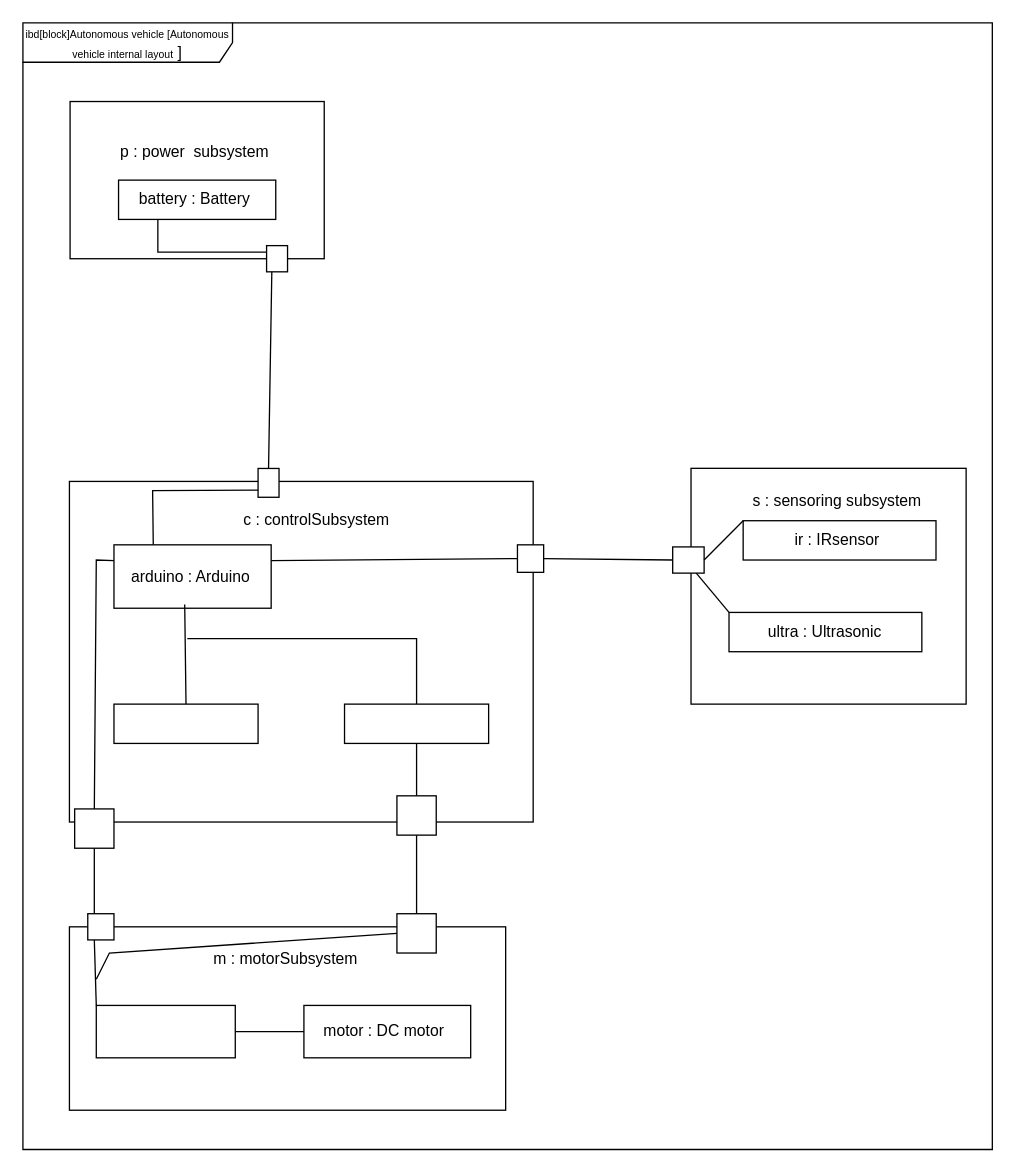
This 1015x1172 diagram has some shape labels left out. Each missing label, with the centre of its shape:
"(Motor Commands )" belongs at (x=416, y=723).
"controller : Motorcontroller" belongs at (x=165, y=1031).
"wheel : Assembly" belongs at (x=185, y=723).
